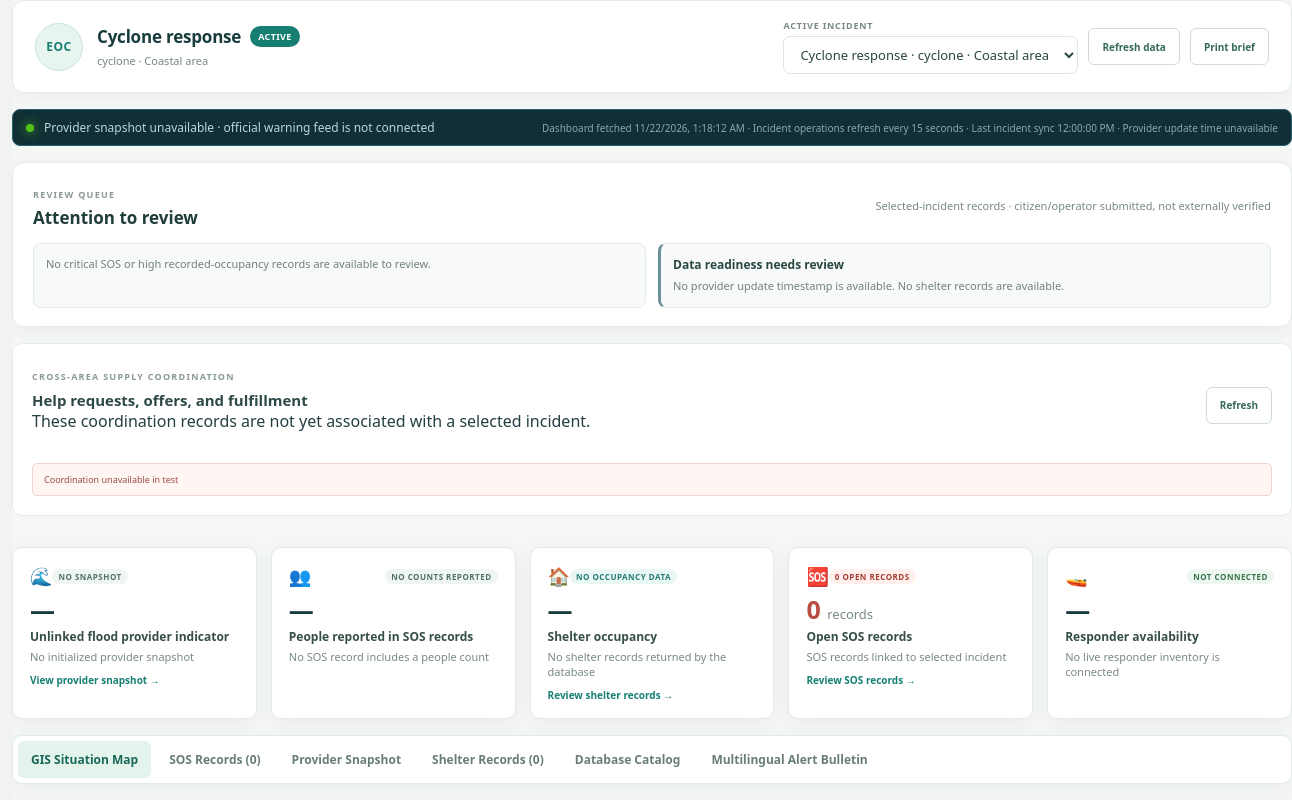
Test: EOC dashboard › switches the operational map and records to the selected incident
Select "Flood response · flood · River area" in the dropdown labelled "ACTIVE INCIDENT" at (931,55), box [783,36,1078,74]
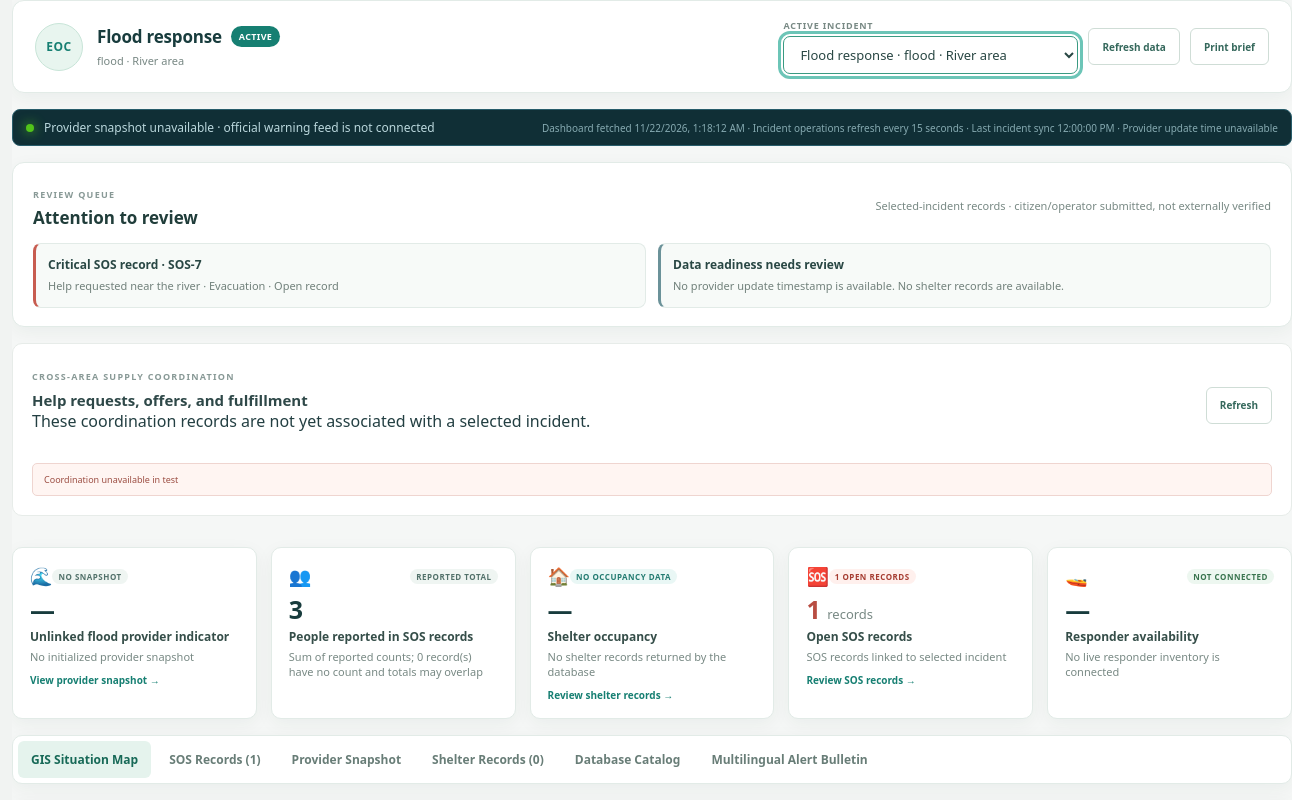
Check: the text "Help requested near the river · Evacuation · Open record" is shown, box [48,278,339,293]
Check: the text "Flood response" is shown, box [97,25,222,48]
